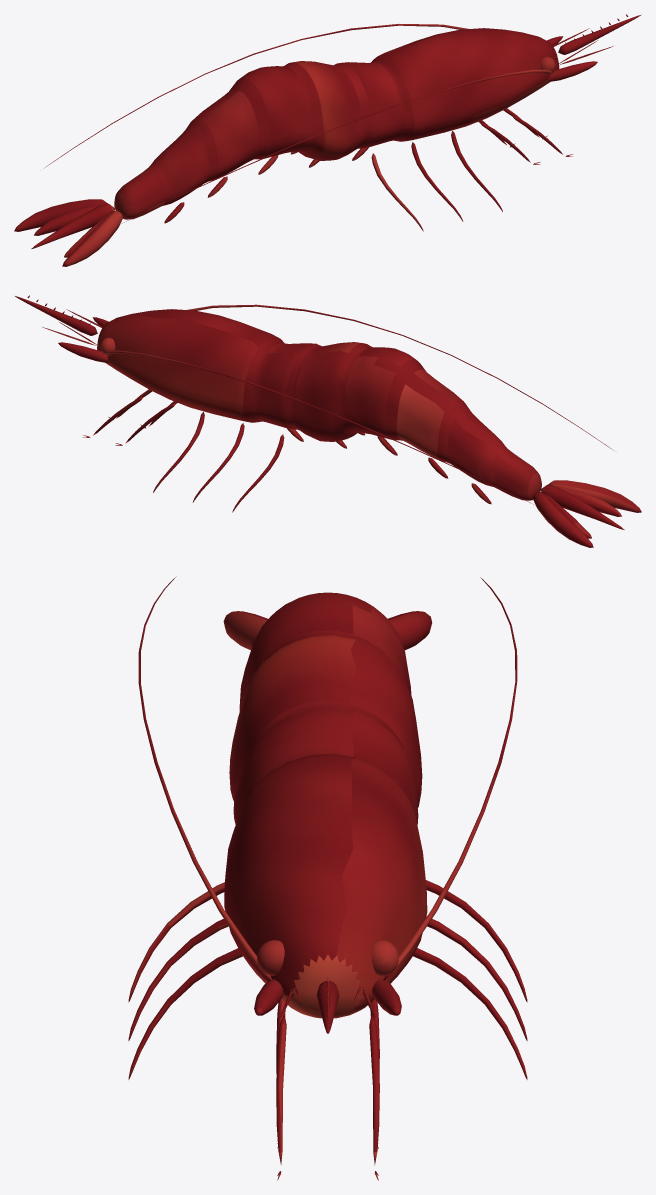
3 renders of one model, top to bottom at view 1: azimuth 30°, elevation 25°; view 2: azimuth 150°, elevation 25°; view 3: azimuth 270°, elevation 25°, orthographic. The views are drawn at different scales.
Parts seen in each view (by area): view 1: Neocaridina_davidi; view 2: Neocaridina_davidi; view 3: Neocaridina_davidi.
Boxes of the visible parts, x1=… form: Neocaridina_davidi: x1=14, y1=14, x2=640, y2=266; Neocaridina_davidi: x1=15, y1=295, x2=641, y2=547; Neocaridina_davidi: x1=128, y1=576, x2=527, y2=1180.
Bounding box in the file's own units: 0.8464 × 0.1996 × 0.2392.
Materials: 1 (1 with a texture image).
